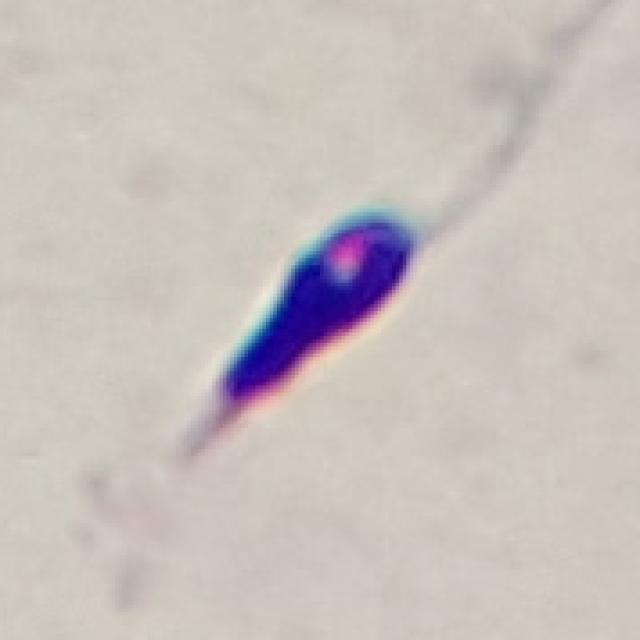abnormal sperm: (179, 110, 535, 463)
